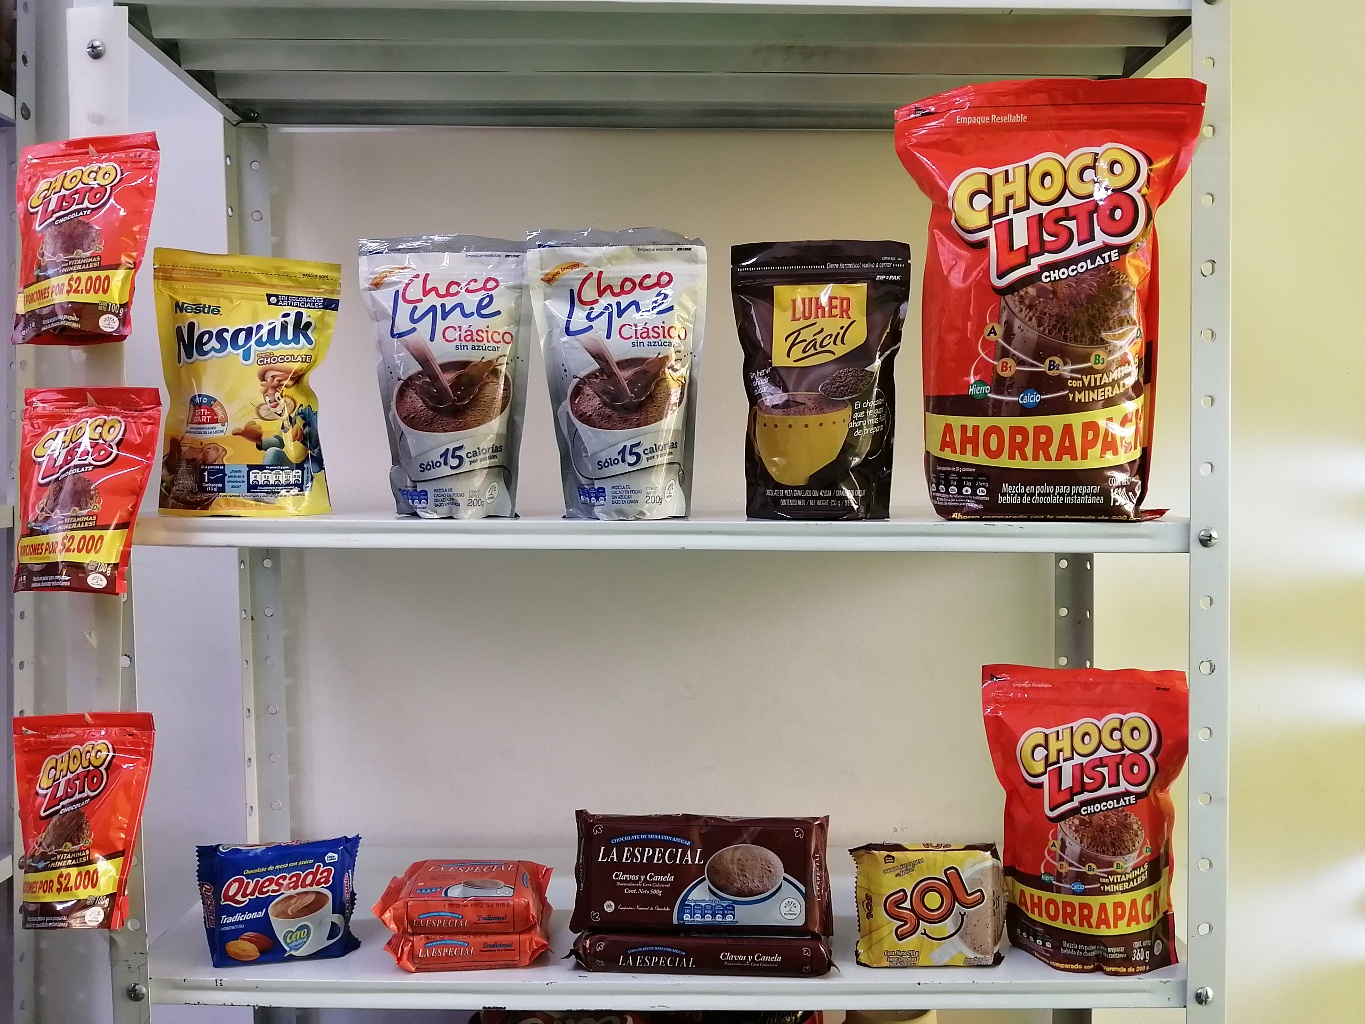COL0170103DYP1,500: (893, 60, 1202, 518)
COL0170103DYP36000: (979, 655, 1182, 980)
COL0170303DYP20000: (141, 236, 349, 506)
